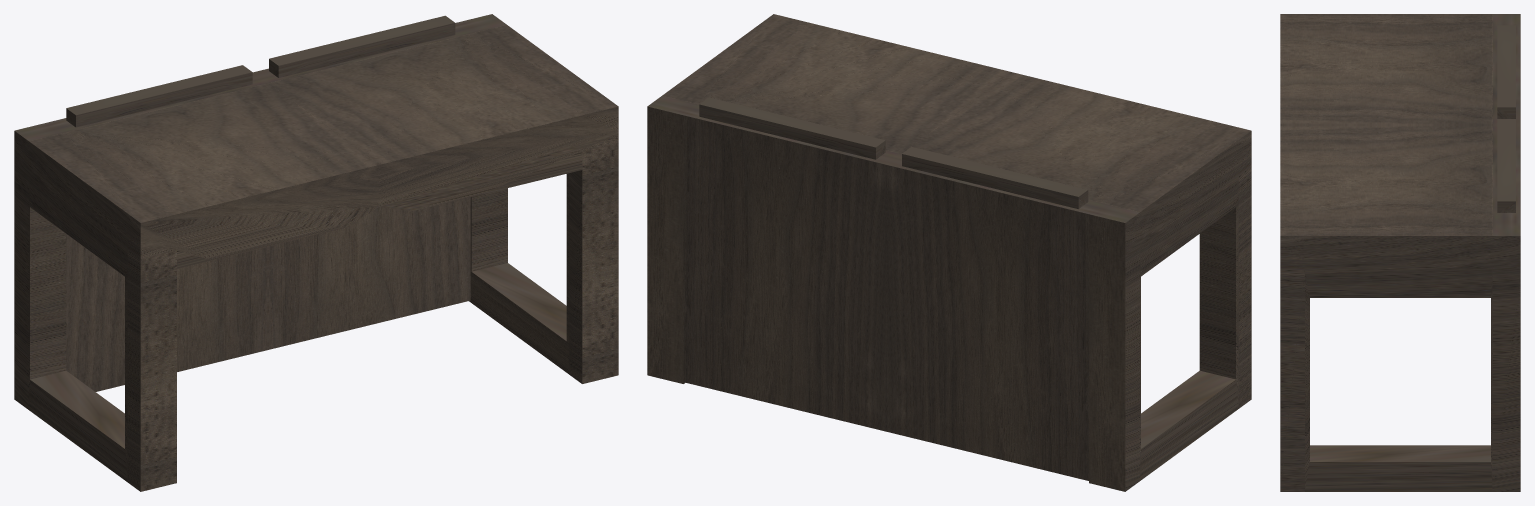
Rendered from Desk.fbx.
The picture shows the model from 3 angles, left to right: view 1: azimuth 30°, elevation 25°; view 2: azimuth 150°, elevation 25°; view 3: azimuth 270°, elevation 25°; orthographic projection. The views are drawn at different scales.
Visible parts, largest first — view 1: Desk; view 2: Desk; view 3: Desk.
Boxes of the visible parts, x1,y1,x2,y2 form: Desk: (14,14,618,491); Desk: (647,14,1251,491); Desk: (1280,14,1520,491).
Size of the model in its own units: 514 by 289 by 236.
